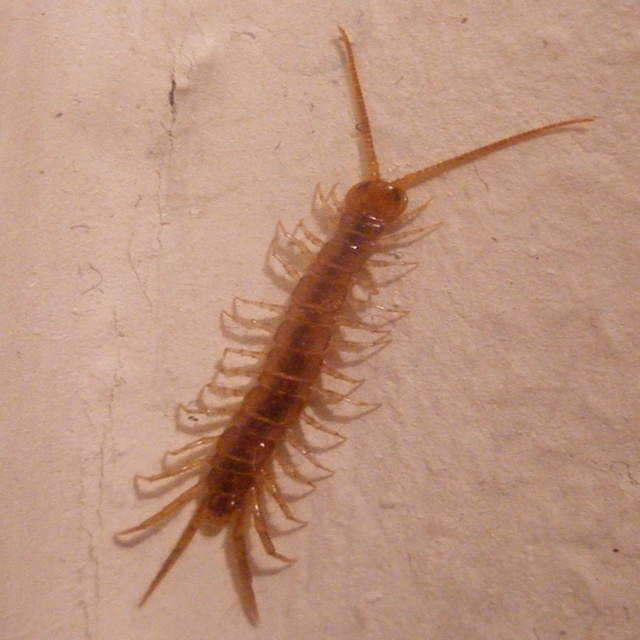Centipede: (115, 25, 596, 623)
